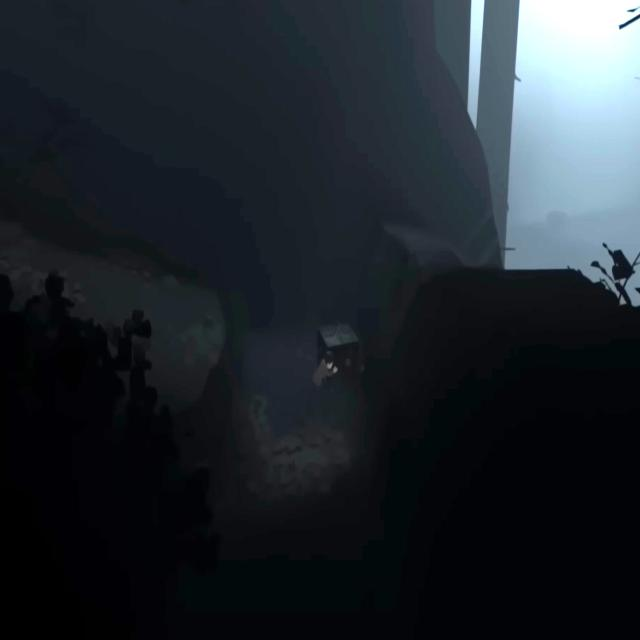boy: (313, 350, 338, 411)
